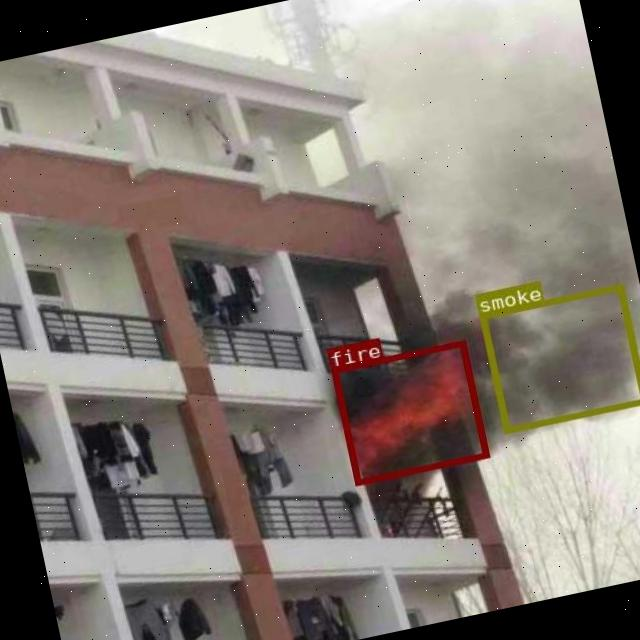fire: (329, 338, 488, 484)
smoke: (478, 282, 640, 432)
